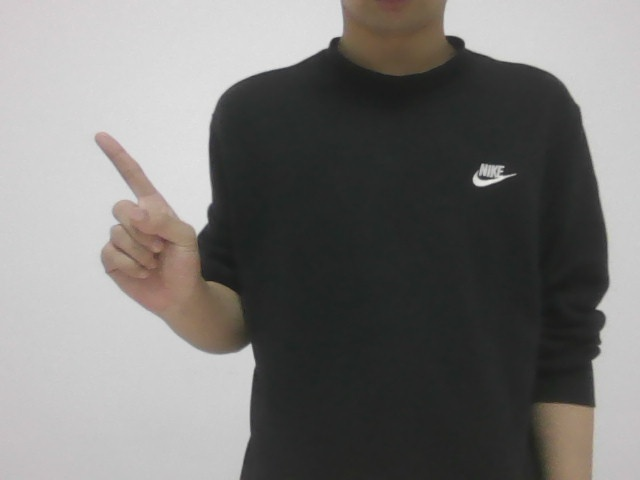what: (73, 121, 203, 330)
